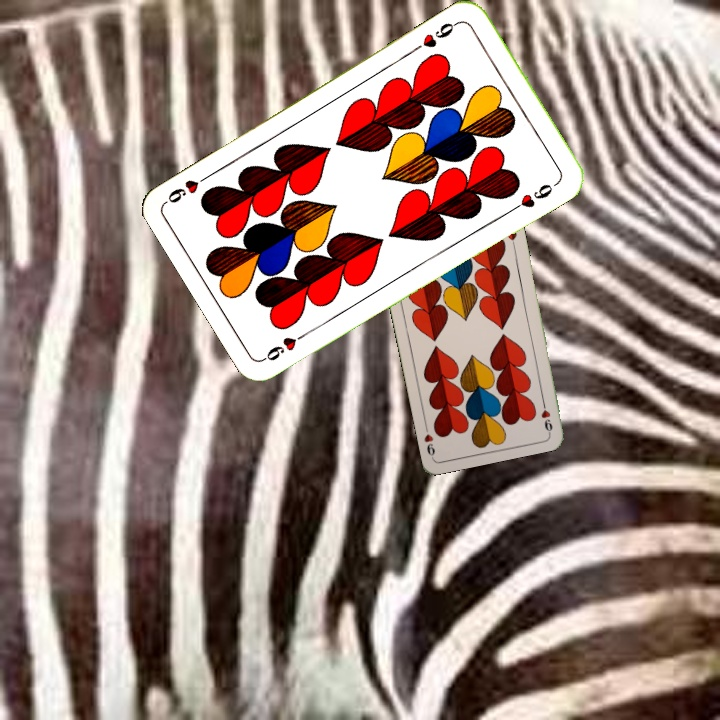H9: (260, 326, 313, 364), (410, 17, 464, 53), (538, 394, 555, 435)
